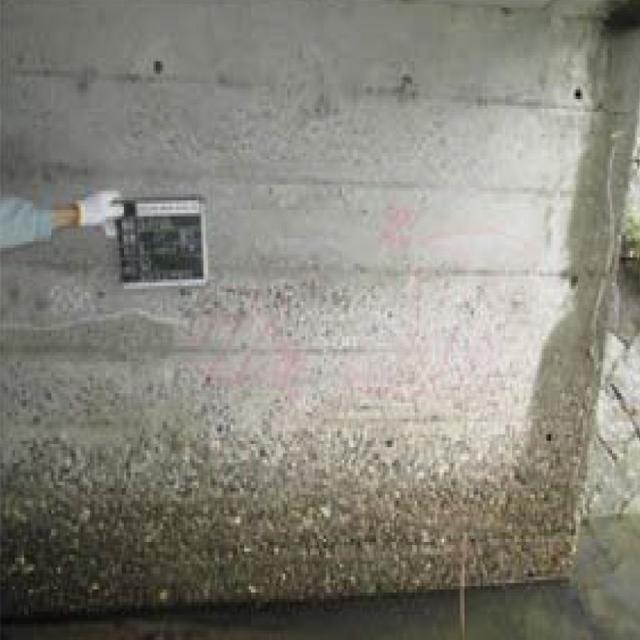leakage: (554, 31, 634, 566)
